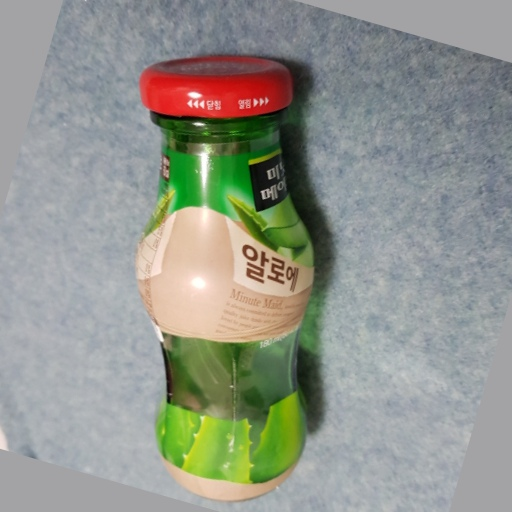Glass_4: (135, 57, 325, 501)
